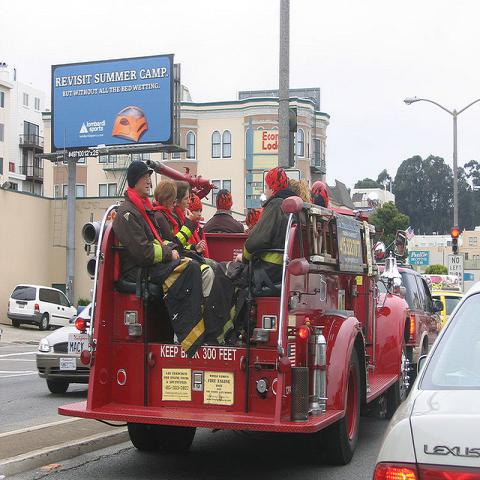car: (368, 286, 480, 474), (36, 301, 93, 395), (6, 284, 77, 331), (430, 291, 464, 329)
truck: (58, 160, 418, 466), (403, 263, 444, 373)
